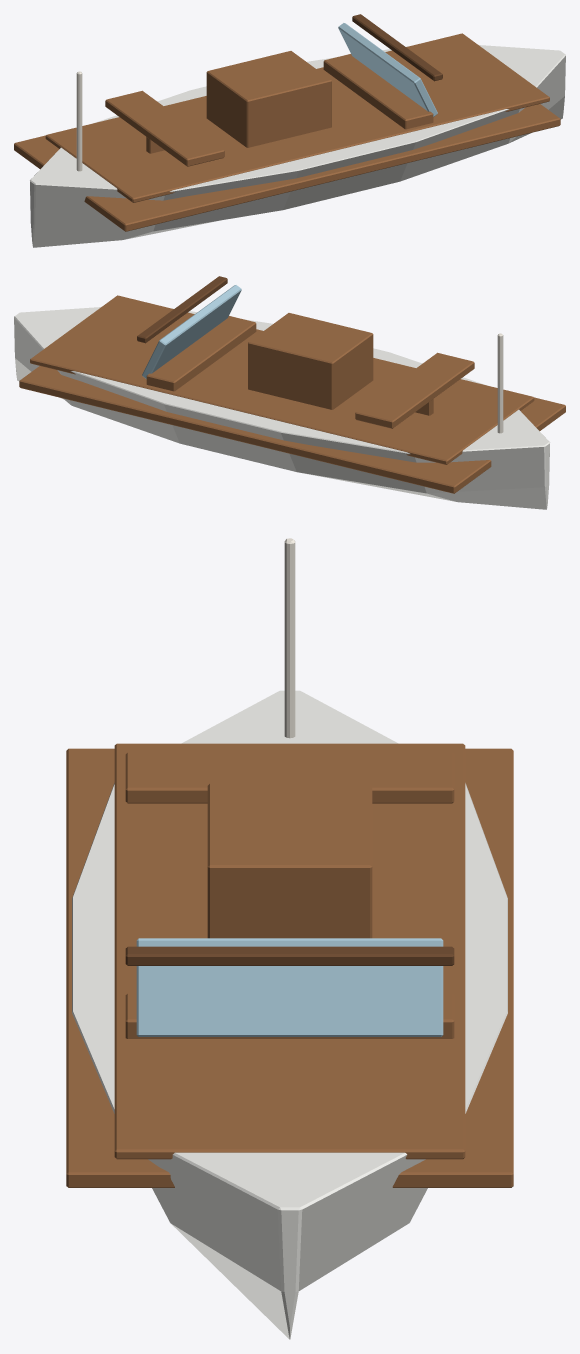
The model's file is snipa.glb.
The picture shows the model from 3 angles, top to bottom: view 1: azimuth 30°, elevation 25°; view 2: azimuth 150°, elevation 25°; view 3: azimuth 270°, elevation 25°; orthographic projection. The views are drawn at different scales.
Parts seen in each view (by area): view 1: snipa; view 2: snipa; view 3: snipa.
Boxes of the visible parts, x1,y1,x2,y2 form: snipa: (14,14,565,247); snipa: (14,276,565,509); snipa: (66,538,513,1339).
Size of the model in its own units: 5.6 by 1.85 by 2.04.
